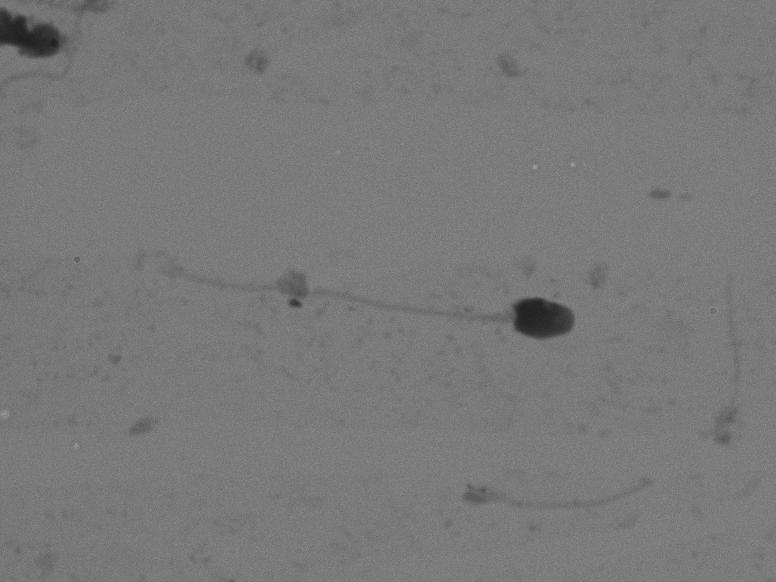Abnormal: (129, 222, 602, 394)
